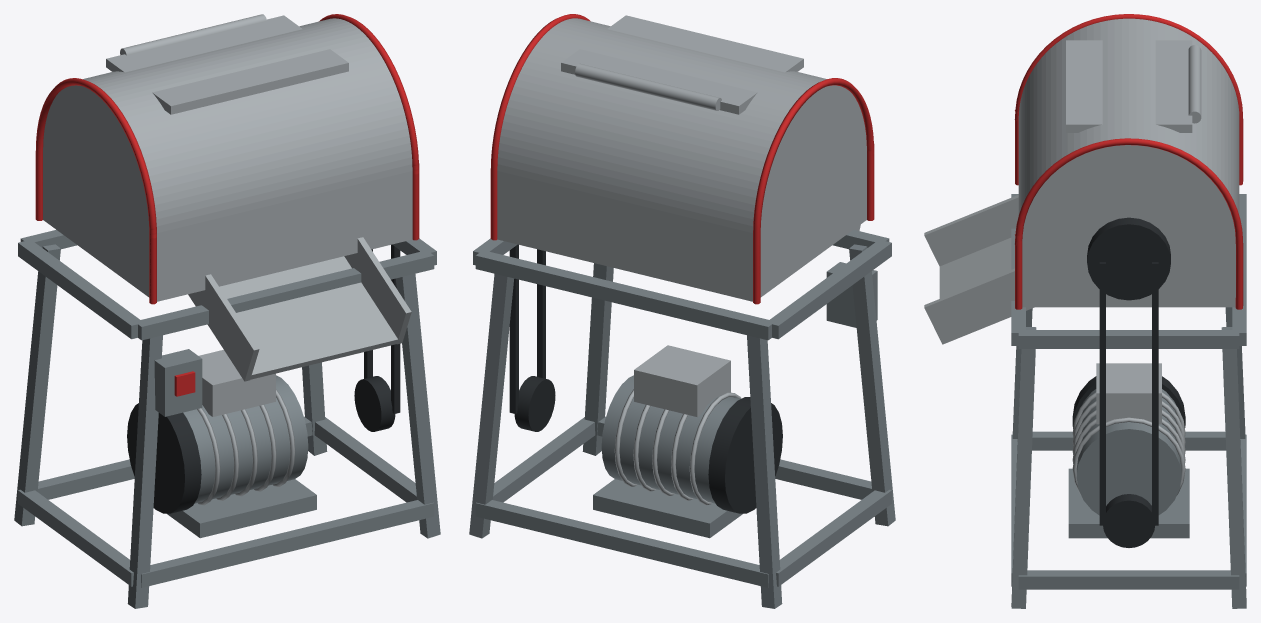
The model's file is pilot-parut-kelapa-v1.glb.
The picture shows the model from 3 angles, left to right: view 1: azimuth 30°, elevation 25°; view 2: azimuth 150°, elevation 25°; view 3: azimuth 270°, elevation 25°; orthographic projection. The views are drawn at different scales.
Parts seen in each view (by area): view 1: enclosed-housing, leg (×4), cross-member (×4), chute-floor, side-member (×3), top-access-lid, motor-body, chute-side (×2), red-cover-trim (×2), fan-cover, mounting-foot, terminal-box (+5 smaller); view 2: enclosed-housing, leg (×4), cross-member (×4), side-member (×3), motor-body, top-access-lid, red-cover-trim (×2), terminal-box, fan-cover, mounting-foot, visible-belt (×2), lid-hinge (+3 smaller); view 3: enclosed-housing, side-member (×3), leg (×4), chute-side (×2), motor-body, top-access-lid, red-cover-trim (×2), external-upper-pulley, visible-belt (×2), terminal-box, cross-member (×4), mounting-foot (+5 smaller).
Part boxes in pixels (box(x1,y1,x2,y2)): enclosed-housing: box(43, 18, 412, 301); leg (×4): box(14, 244, 440, 608); cross-member (×4): box(20, 229, 434, 587); chute-floor: box(219, 256, 400, 380); side-member (×3): box(18, 239, 417, 586); top-access-lid: box(106, 15, 348, 114); motor-body: box(183, 375, 308, 503); chute-side (×2): box(188, 237, 411, 381); red-cover-trim (×2): box(35, 14, 419, 304); fan-cover: box(127, 403, 201, 513); mounting-foot: box(167, 479, 316, 538); terminal-box: box(199, 349, 275, 416); enclosed-housing: box(497, 18, 866, 301); leg (×4): box(469, 244, 895, 608); cross-member (×4): box(475, 229, 889, 587); side-member (×3): box(492, 240, 891, 586); motor-body: box(601, 375, 740, 503); top-access-lid: box(561, 15, 803, 114); red-cover-trim (×2): box(490, 14, 874, 304); terminal-box: box(634, 345, 730, 416); fan-cover: box(708, 397, 782, 513); mounting-foot: box(593, 479, 742, 538); visible-belt (×2): box(509, 244, 545, 413); lid-hinge: box(575, 63, 721, 110); enclosed-housing: box(1018, 18, 1239, 307); side-member (×3): box(1018, 330, 1239, 589); leg (×4): box(1011, 307, 1246, 608); chute-side (×2): box(924, 195, 1034, 344); motor-body: box(1076, 389, 1181, 515); top-access-lid: box(1066, 40, 1192, 132); red-cover-trim (×2): box(1014, 14, 1243, 309); external-upper-pulley: box(1087, 217, 1170, 300); visible-belt (×2): box(1099, 262, 1158, 525); terminal-box: box(1096, 363, 1161, 424); cross-member (×4): box(1011, 194, 1246, 586); mounting-foot: box(1068, 468, 1189, 538).
Size of the model in its own units: 1.33 by 1.94 by 1.23.
